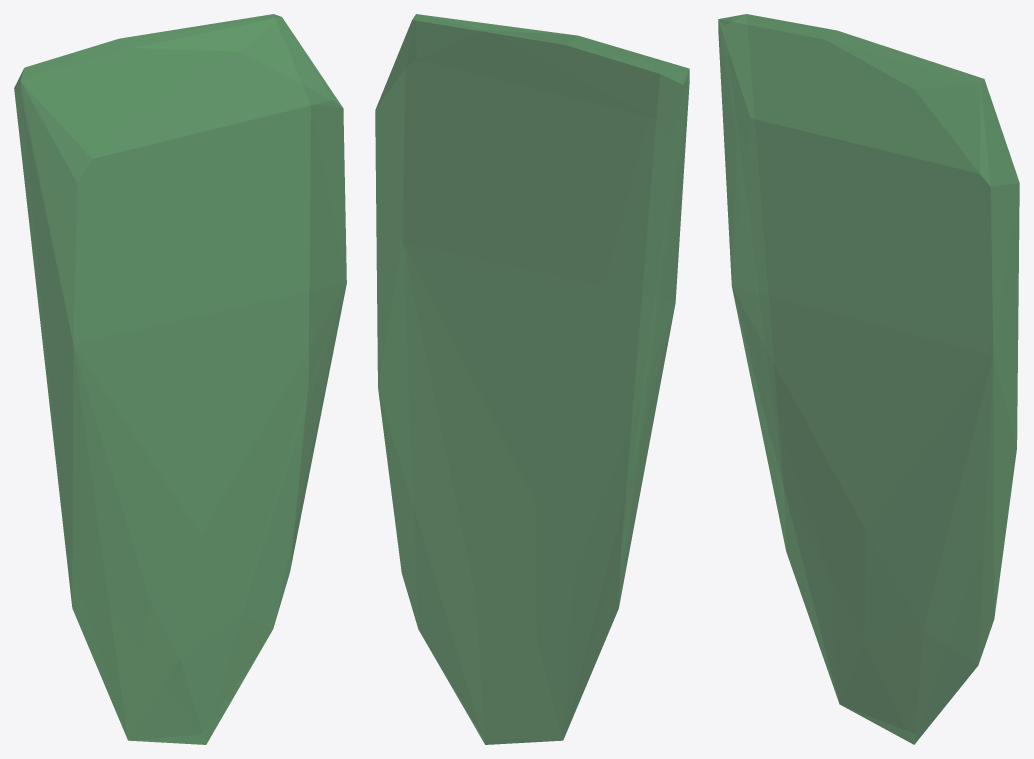
3 renders of one model, left to right at view 1: azimuth 30°, elevation 25°; view 2: azimuth 150°, elevation 25°; view 3: azimuth 330°, elevation 25°, orthographic. The views are drawn at different scales.
Parts seen in each view (by area): view 1: Shape_IndexedFaceSet.003_Shape_IndexedFaceSet.16582; view 2: Shape_IndexedFaceSet.003_Shape_IndexedFaceSet.16582; view 3: Shape_IndexedFaceSet.003_Shape_IndexedFaceSet.16582.
Boxes of the visible parts, x1=… form: Shape_IndexedFaceSet.003_Shape_IndexedFaceSet.16582: x1=14, y1=14, x2=346, y2=744; Shape_IndexedFaceSet.003_Shape_IndexedFaceSet.16582: x1=375, y1=14, x2=689, y2=744; Shape_IndexedFaceSet.003_Shape_IndexedFaceSet.16582: x1=718, y1=14, x2=1019, y2=744.
Size of the model in its own units: 0.2171 by 0.4896 by 0.0395.
